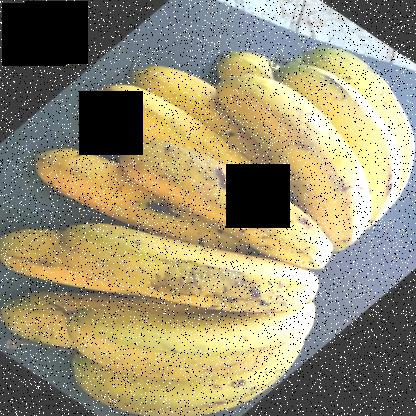ripe: (125, 146, 354, 279), (64, 209, 341, 318), (72, 286, 326, 370), (234, 86, 378, 233), (17, 142, 205, 244), (91, 86, 254, 192), (294, 62, 414, 203), (68, 360, 320, 412)
